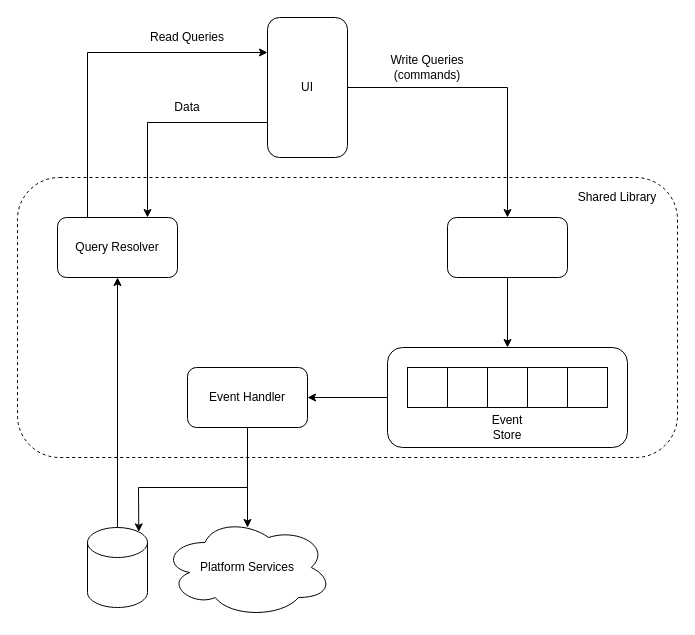
Image size: 695x635. Some labels were removed from this diagram. The centre of each missing label's shape, as x and y in pixels:
Command Handler: pixel 507 247
Db: pixel 117 567
